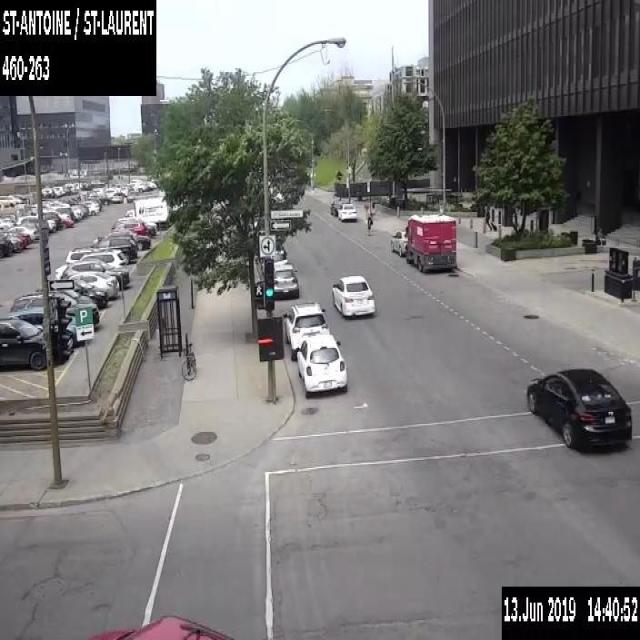pedestrian: (367, 212, 372, 234), (371, 198, 375, 214)
vehicle: (525, 366, 631, 454), (0, 315, 73, 369), (89, 613, 237, 639), (294, 331, 346, 396), (405, 212, 456, 272), (8, 304, 84, 344), (10, 291, 99, 325), (282, 299, 329, 359), (55, 248, 127, 278), (61, 258, 129, 288), (331, 272, 375, 316), (125, 194, 170, 231), (88, 235, 137, 263), (68, 270, 119, 296), (95, 228, 150, 250), (73, 278, 108, 308), (111, 215, 156, 237), (35, 287, 94, 303), (272, 262, 298, 297), (260, 248, 288, 276), (65, 246, 113, 262), (16, 214, 55, 233), (112, 219, 146, 234), (7, 225, 38, 241), (36, 210, 61, 229), (390, 230, 408, 256), (337, 201, 356, 221), (3, 233, 23, 250), (329, 196, 346, 215), (15, 230, 32, 248), (0, 212, 15, 232), (82, 198, 99, 215), (0, 234, 13, 255), (30, 202, 50, 215), (86, 195, 102, 210), (56, 207, 74, 220), (68, 204, 82, 220), (47, 199, 69, 208), (75, 202, 88, 215), (60, 212, 73, 225), (127, 178, 142, 189), (126, 189, 138, 202), (103, 186, 116, 197), (40, 187, 54, 197), (110, 191, 123, 201), (89, 178, 105, 186), (52, 184, 64, 194), (63, 182, 75, 192), (50, 187, 61, 197), (137, 180, 146, 190), (71, 180, 82, 188), (120, 185, 128, 196), (81, 180, 91, 188)
